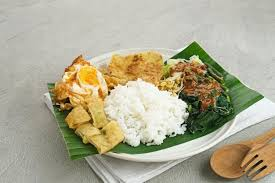Nasi pecel: (51, 48, 231, 156)
Telur ceplok: (57, 52, 109, 110)
